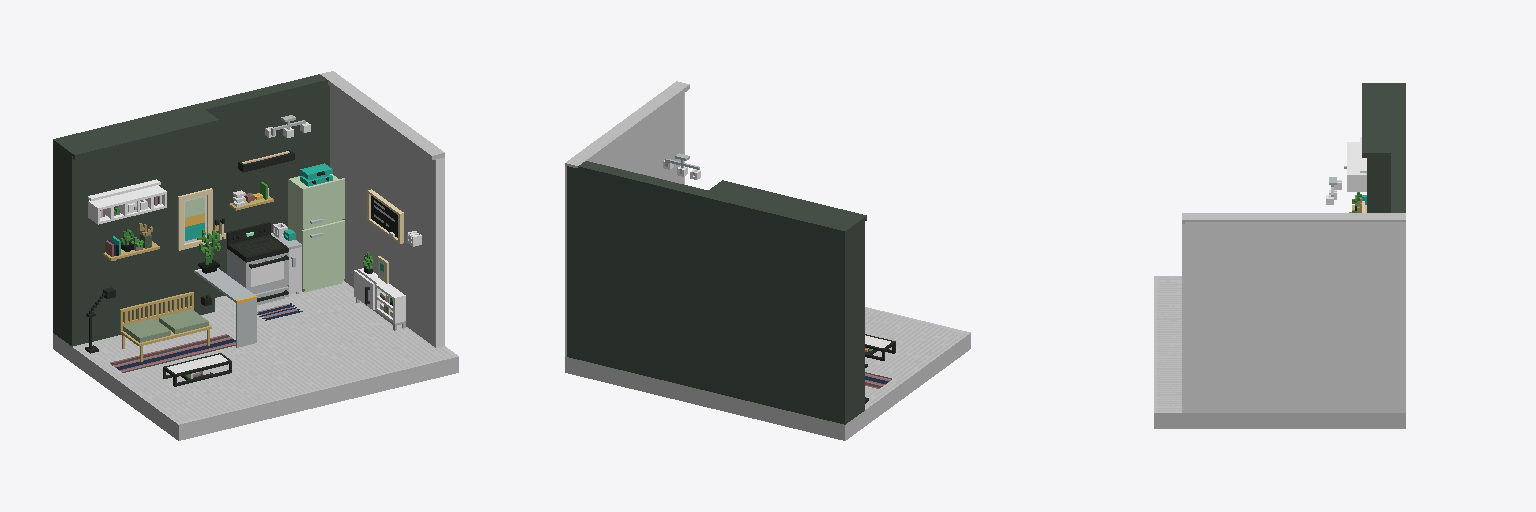
3 renders of one model, left to right at view 1: azimuth 30°, elevation 25°; view 2: azimuth 150°, elevation 25°; view 3: azimuth 270°, elevation 25°, orthographic.
Bounding box in the file's own units: 126 × 90 × 98.
Materials: 1 (1 with a texture image).